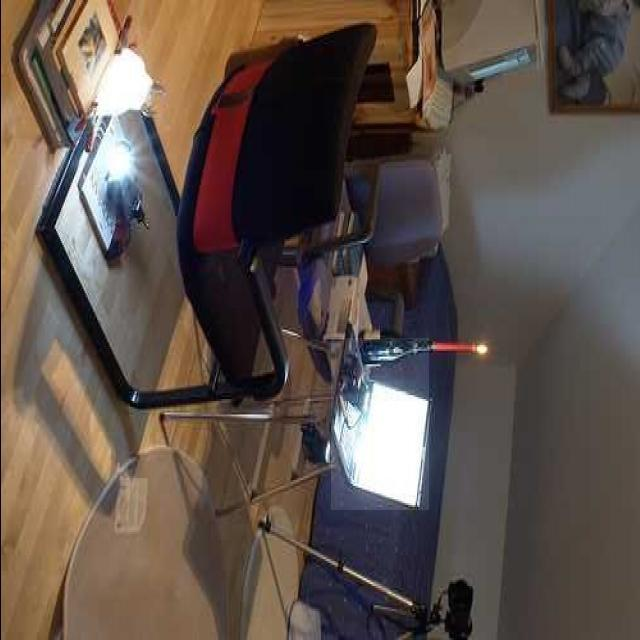-keyboard-: (331, 338, 429, 510)
